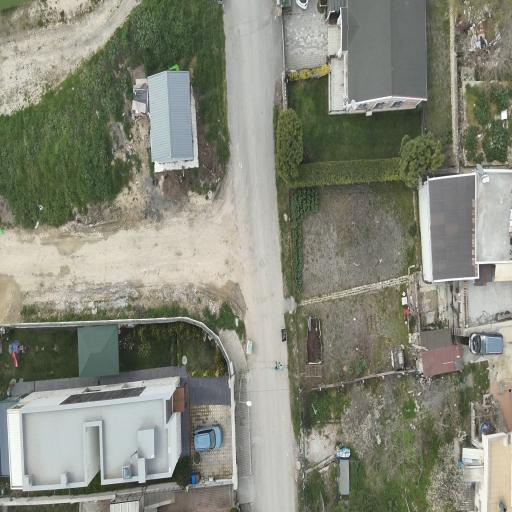car: (194, 426, 222, 451), (470, 333, 503, 354), (296, 0, 307, 9)
